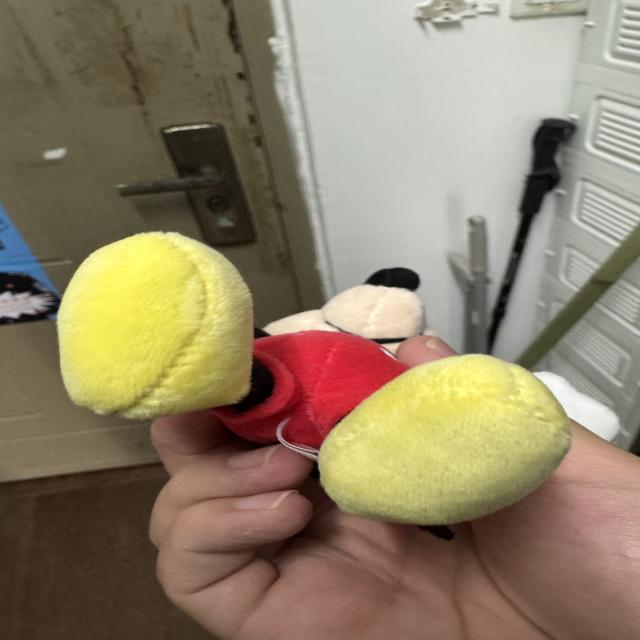mickey: (59, 233, 625, 524)
